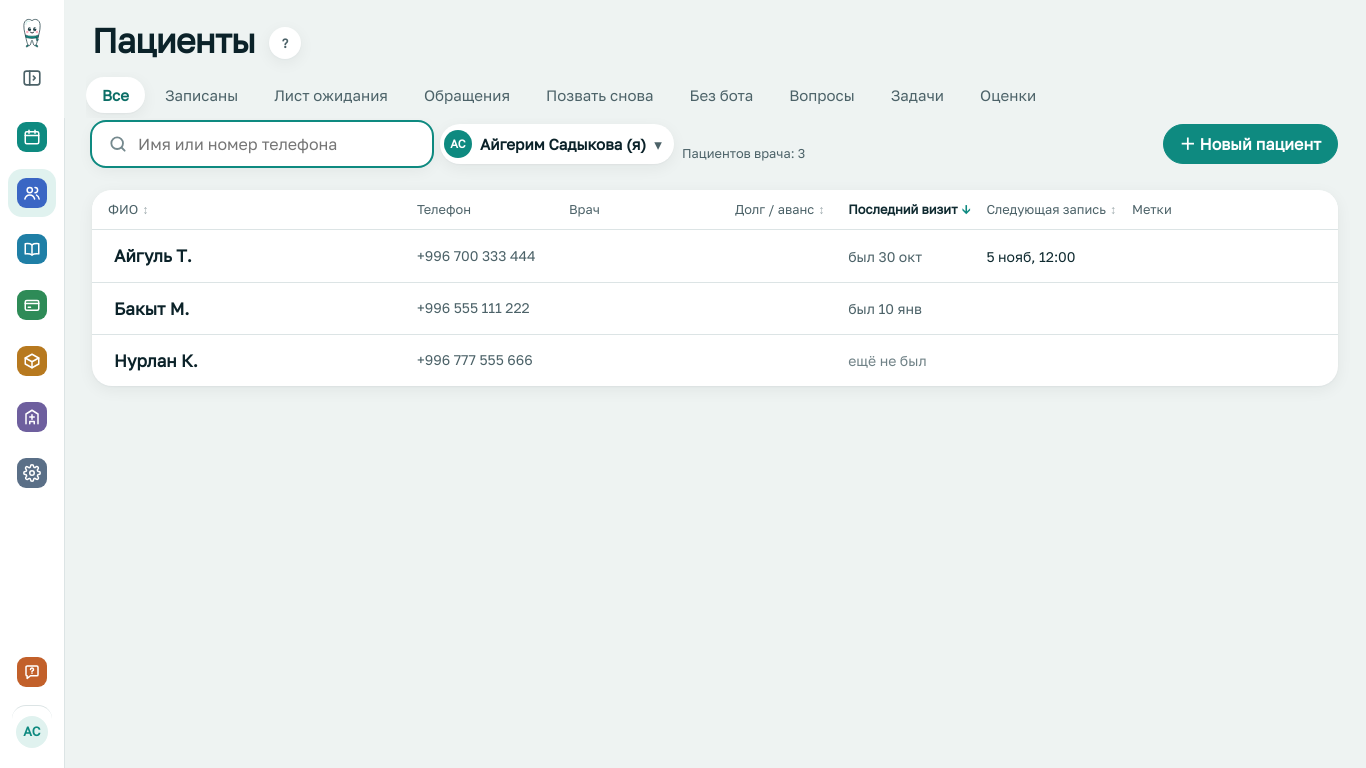
Test case: фильтр по врачу: только его пациенты, сервер получает doctorId
This screenshot has width=1366, height=768.
Check: the button "Нурлан К." is shown, box [114,348,198,373]
Step 1. Click the button with aria-label "Чьи пациенты:" → (557, 144), box [440,124,674,164]
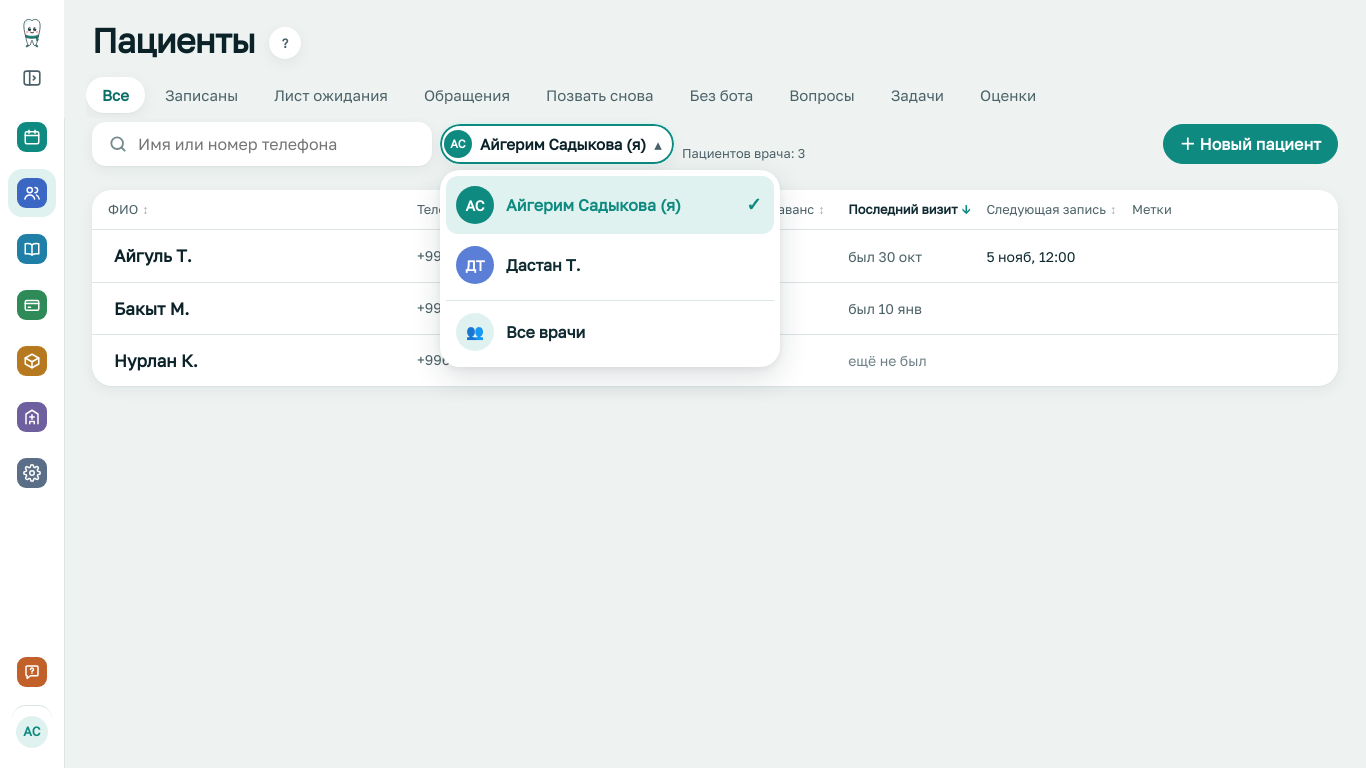
Step 2. Click the option "ДТ Дастан Т." → (518, 265), box [456,246,580,284]
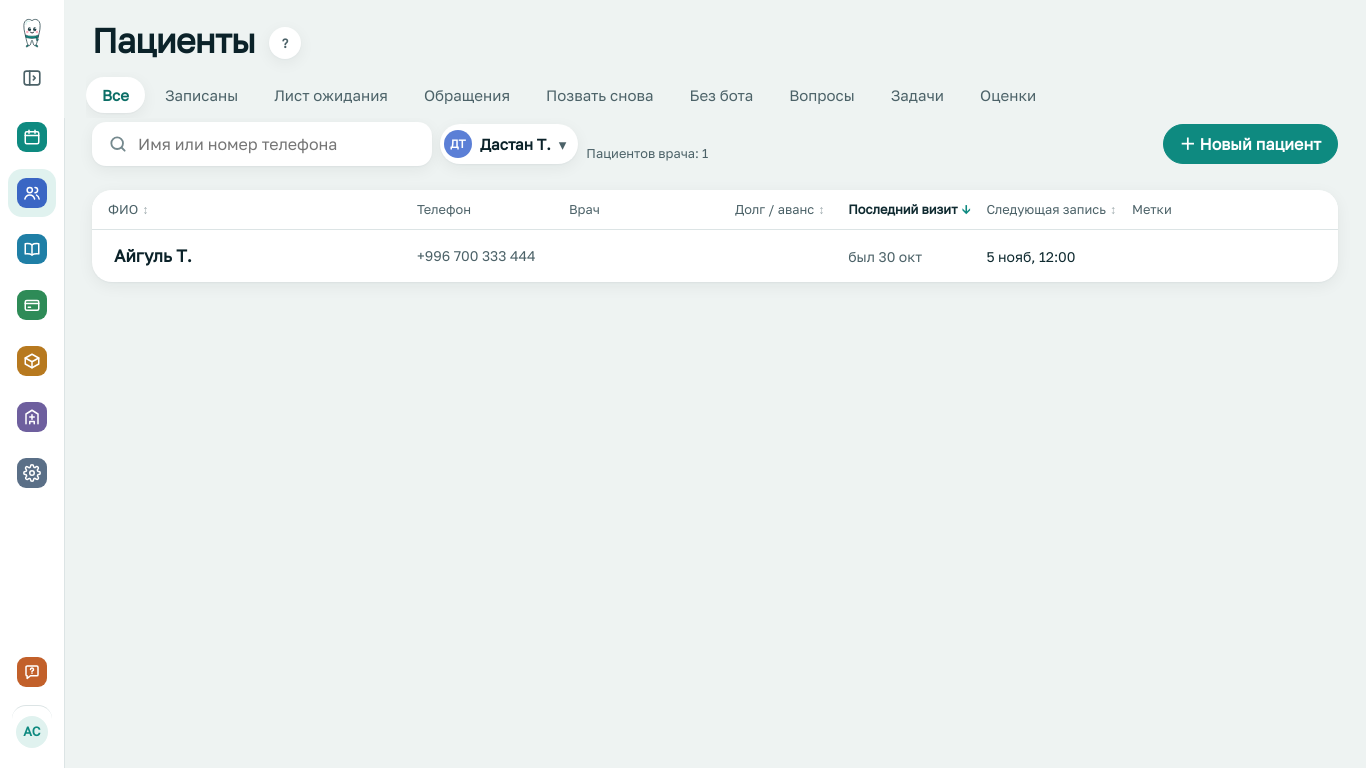
Check: the text "Пациентов врача: 1" is shown, box [586,145,708,166]
Step 3. Click the button with aria-label "Чьи пациенты:" → (509, 144), box [440,124,578,164]
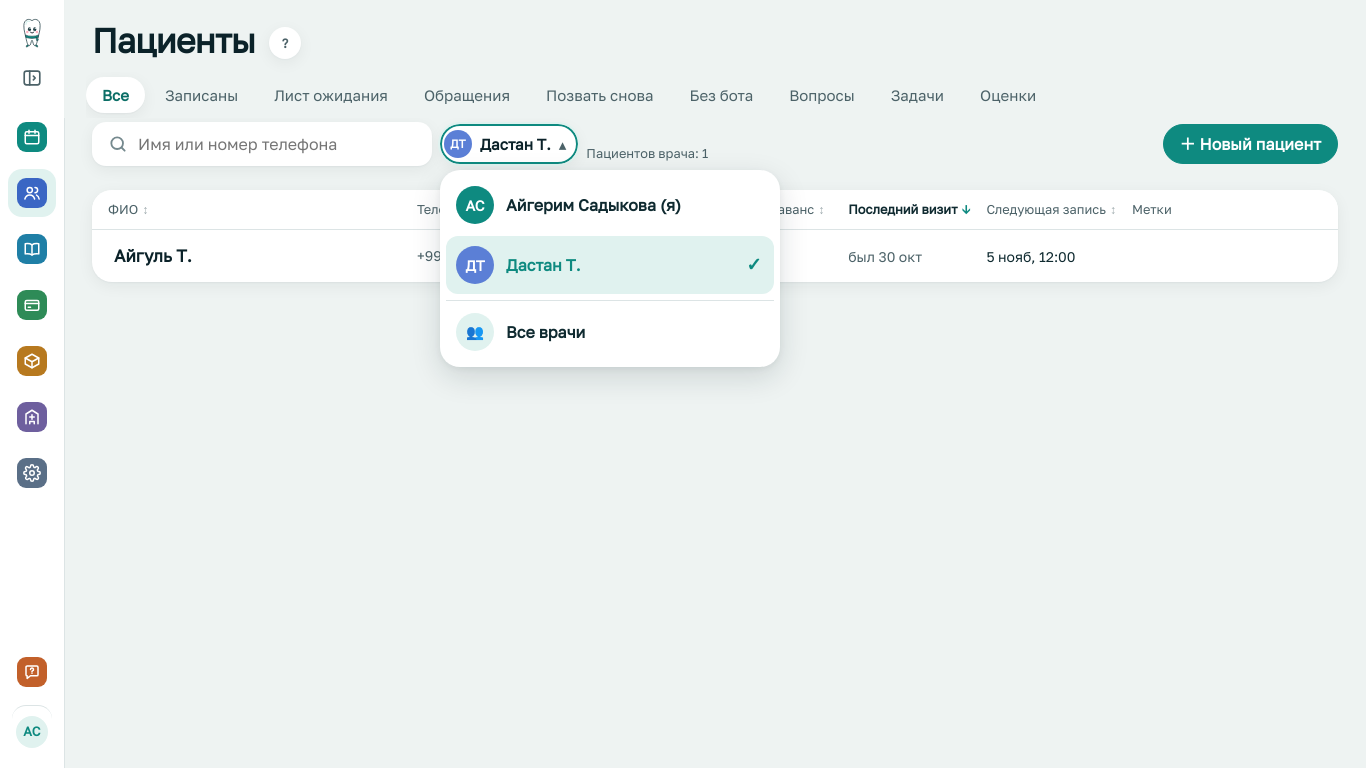
Step 4. Click the option "👥 Все врачи" → (475, 332), box [446,300,774,361]
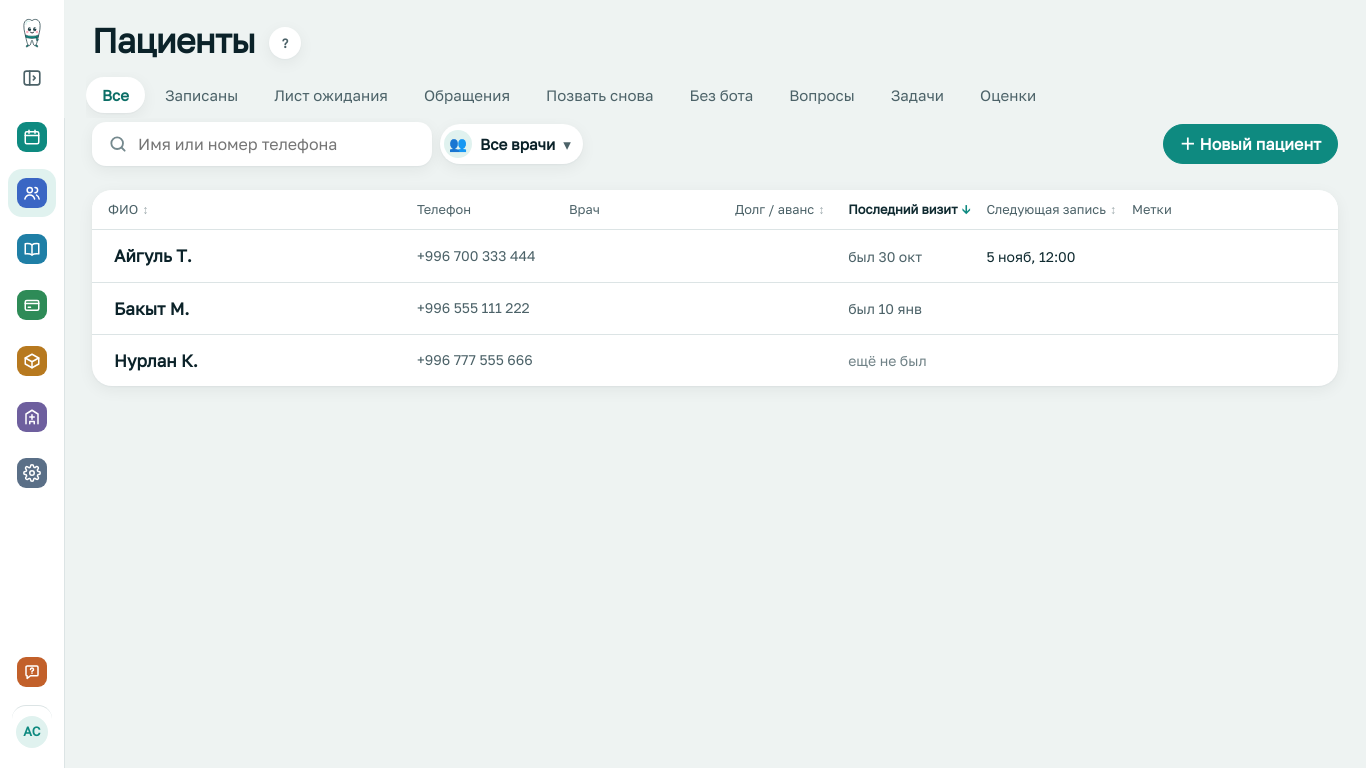
Check: the button "Нурлан К." is shown, box [114,348,198,373]
